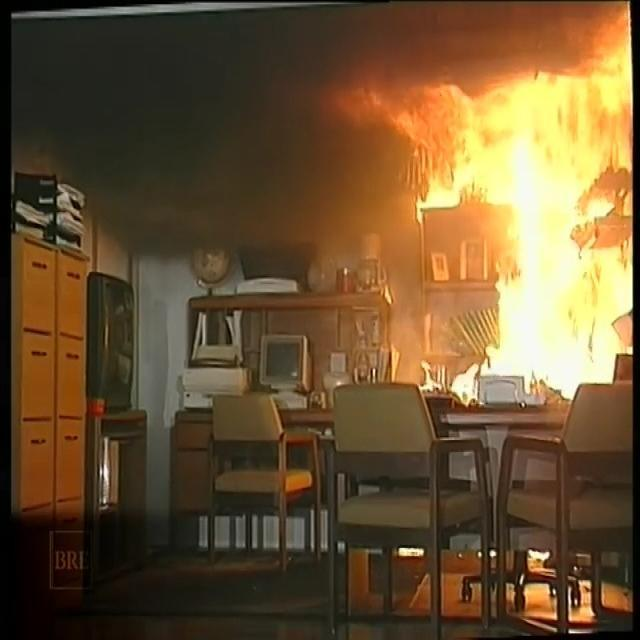Fire: (320, 5, 640, 417)
